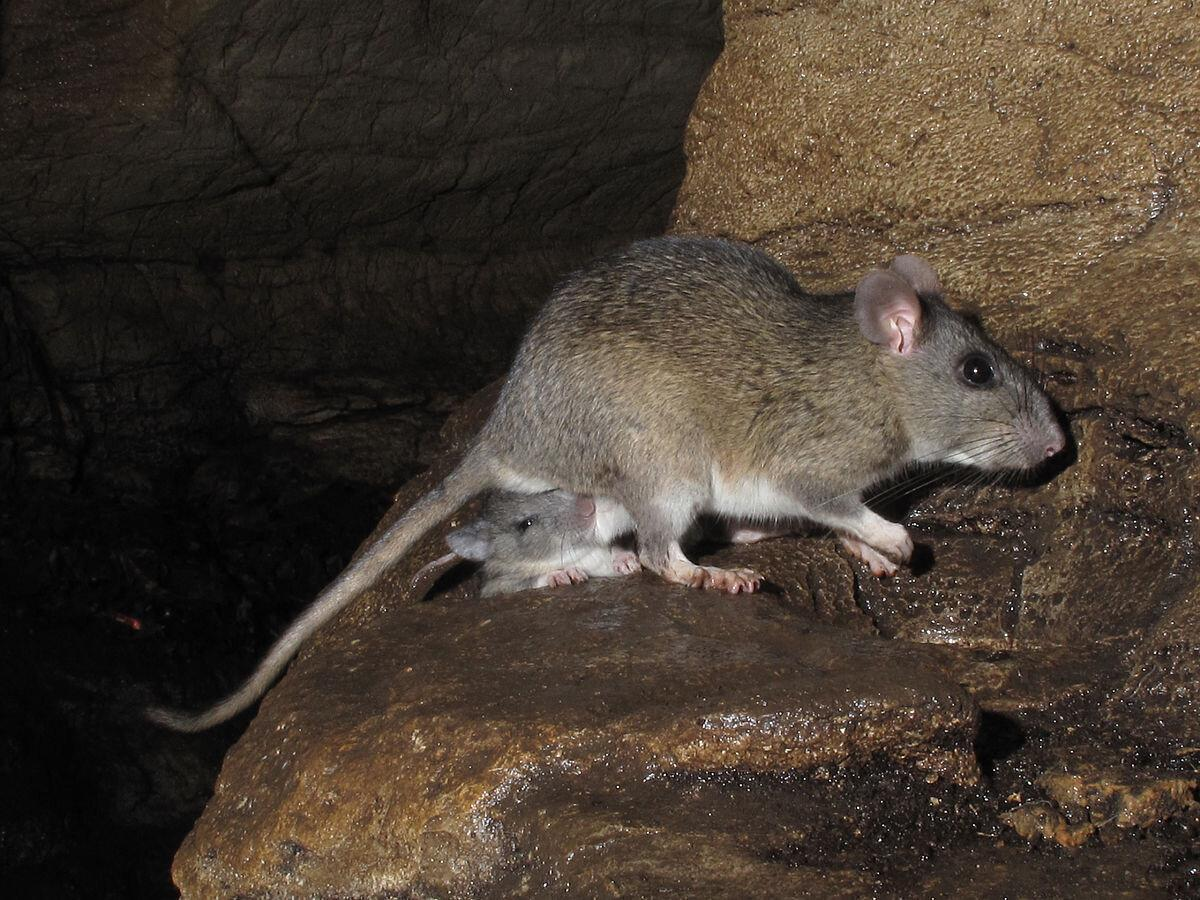rat: (151, 236, 1068, 732), (411, 492, 641, 588)
